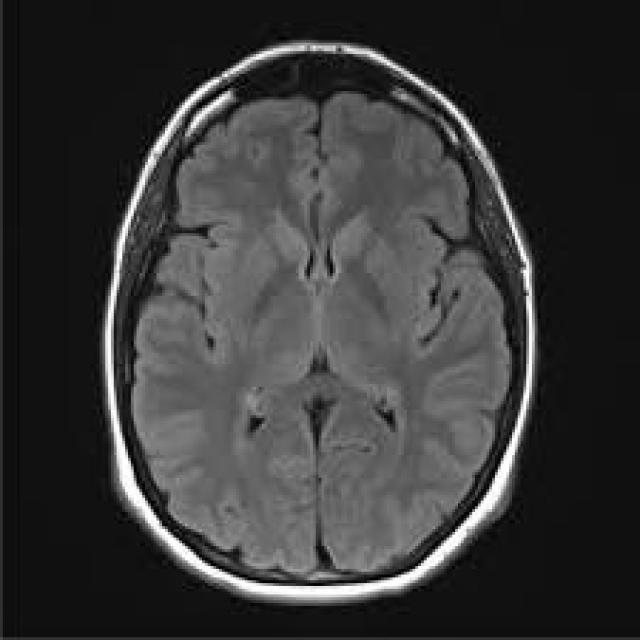notumor: (102, 43, 538, 612)
